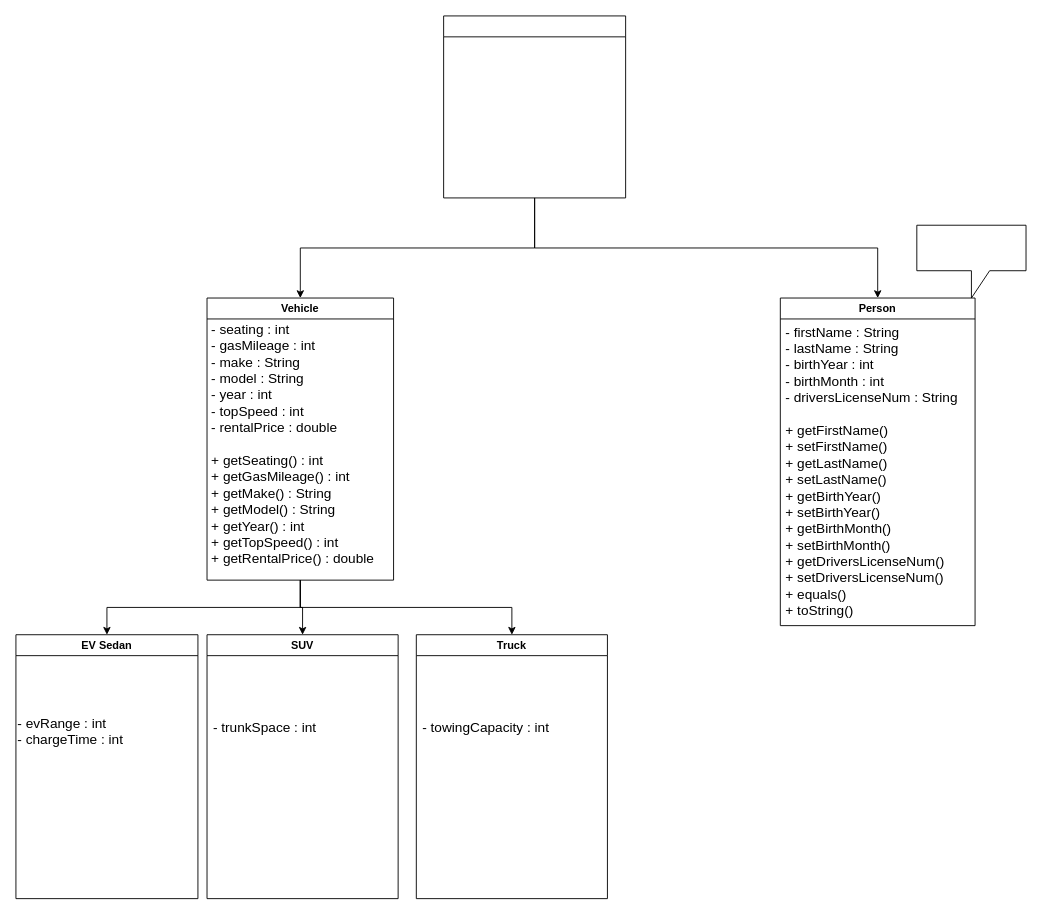
Image size: 1042x915. Some labels were removed from this diagram. The shapes that lost their labels are listed below. From the top down, each one's centre as x and y in pixels, then its label:
point (534, 106): Main
point (971, 261): Custom exception for age: if under 25 do not allow user to rent
